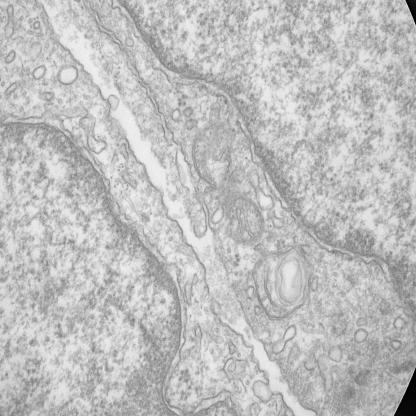mitochondria: (192, 122, 233, 192), (221, 196, 266, 245)
